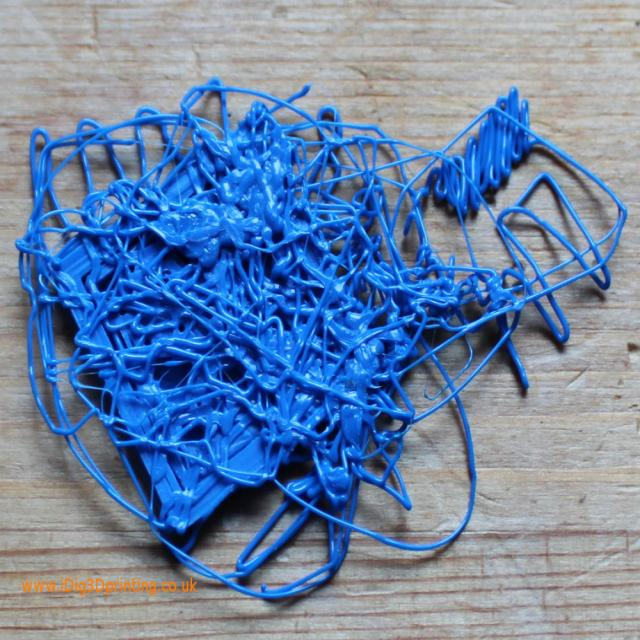spaghetti: (15, 80, 627, 605)
